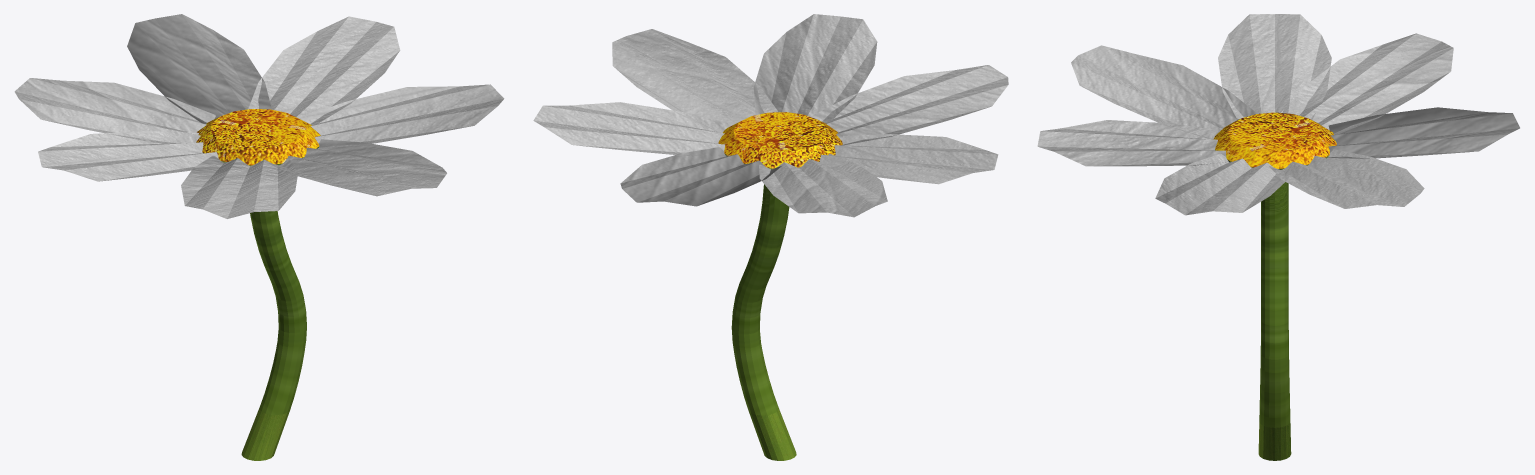
The model's file is flower1.obj.
The picture shows the model from 3 angles, left to right: view 1: azimuth 30°, elevation 25°; view 2: azimuth 150°, elevation 25°; view 3: azimuth 270°, elevation 25°; orthographic projection.
Visible parts, largest first — view 1: Circle, Circle.002, Circle.001; view 2: Circle, Circle.002, Circle.001; view 3: Circle, Circle.002, Circle.001.
Boxes of the visible parts, x1,y1,x2,y2 form: Circle: [14, 14, 504, 218]; Circle.002: [202, 147, 318, 460]; Circle.001: [196, 109, 320, 165]; Circle: [533, 14, 1008, 217]; Circle.002: [725, 154, 800, 460]; Circle.001: [718, 112, 842, 168]; Circle: [1037, 14, 1519, 215]; Circle.002: [1215, 150, 1328, 460]; Circle.001: [1213, 112, 1336, 168].
Size of the model in its own units: 7.17 by 5.64 by 7.26.
Materials: 3 (3 with a texture image).
